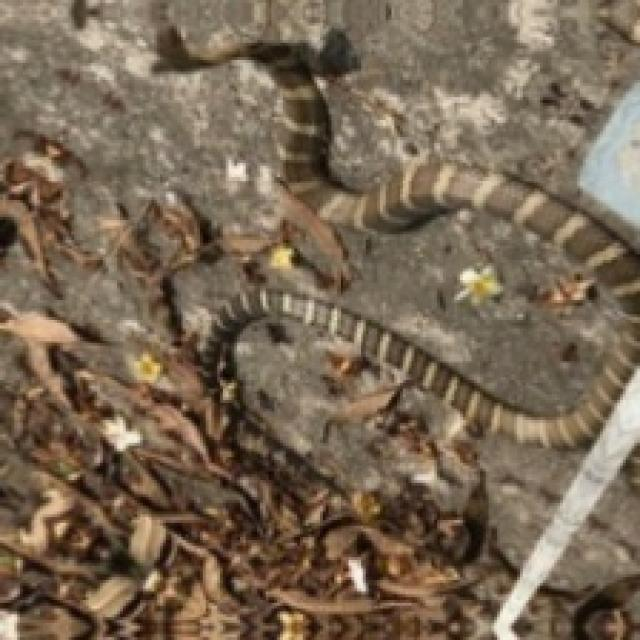king cobra: (154, 26, 637, 637)
